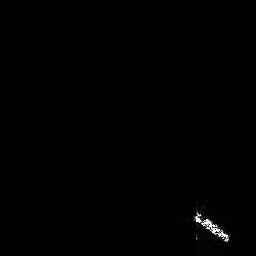ship: (194, 206, 232, 243)
